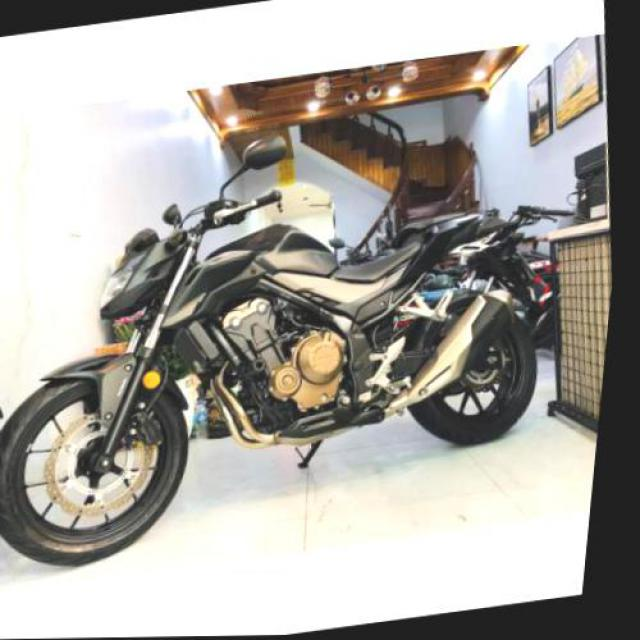CB500F: (0, 173, 580, 582)
